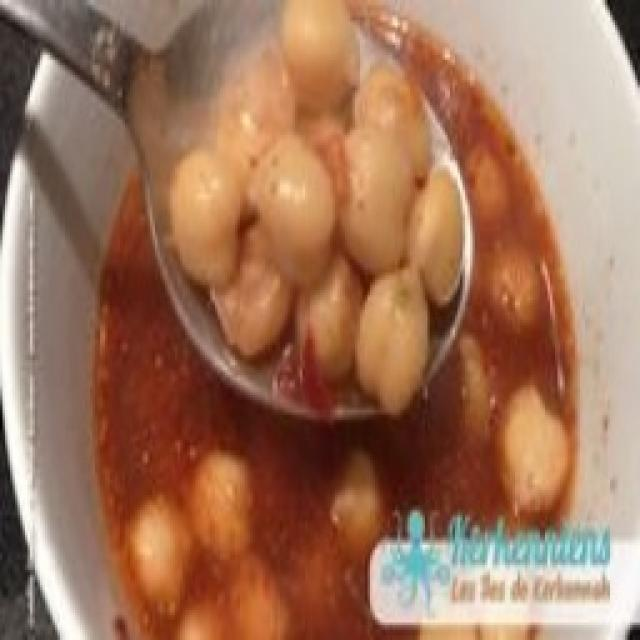Lablabi: (95, 0, 606, 639)
